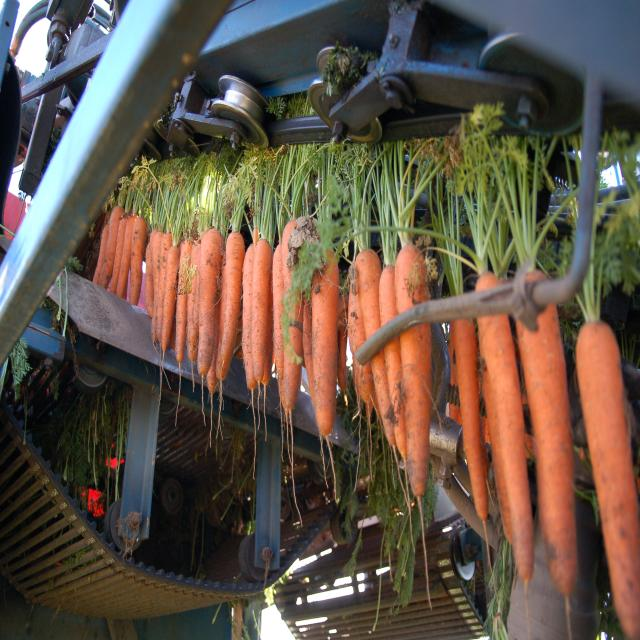Fresh_Carrot: (343, 156, 379, 414), (247, 146, 285, 386), (190, 194, 214, 390)
